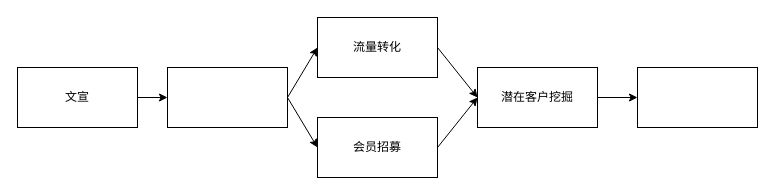
Image size: 775x195. Some labels were removed from this diagram. The shapes that lost their labels are listed below. From the top down, each one's centre as x and y in pixels, then its label:
At [227,97]: "引流".
At [697,97]: "客户运营".
